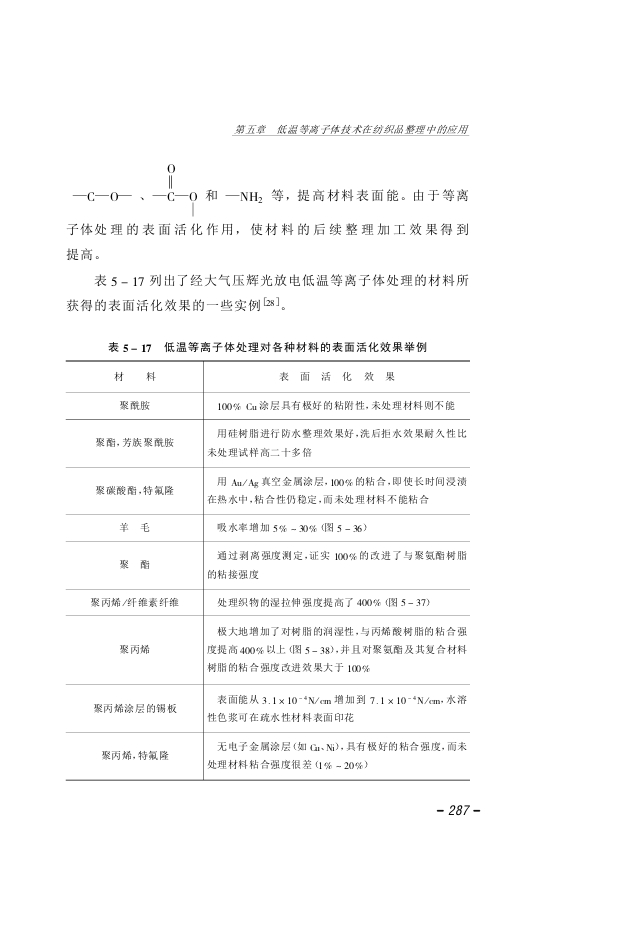table: (65, 359, 471, 780)
